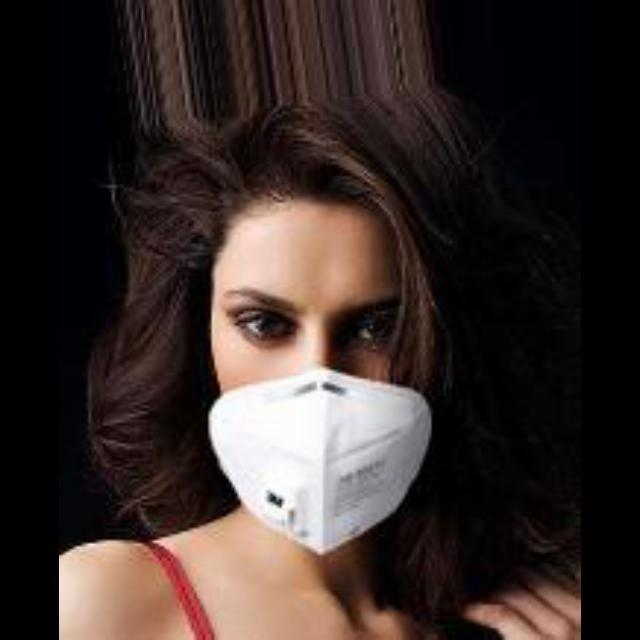suspicion: (149, 108, 507, 510)
